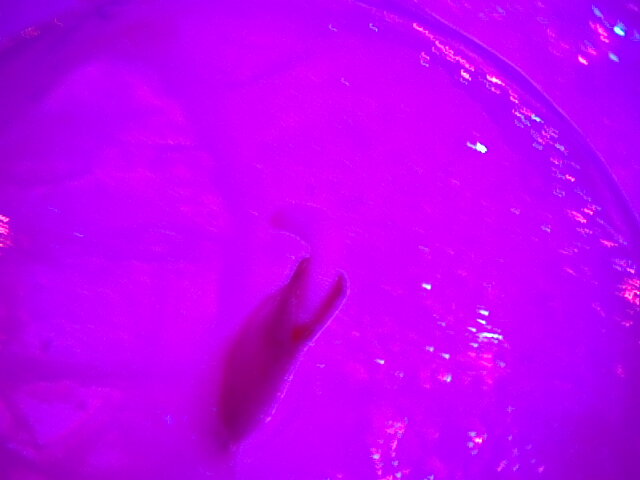sprout: (180, 213, 372, 446)
